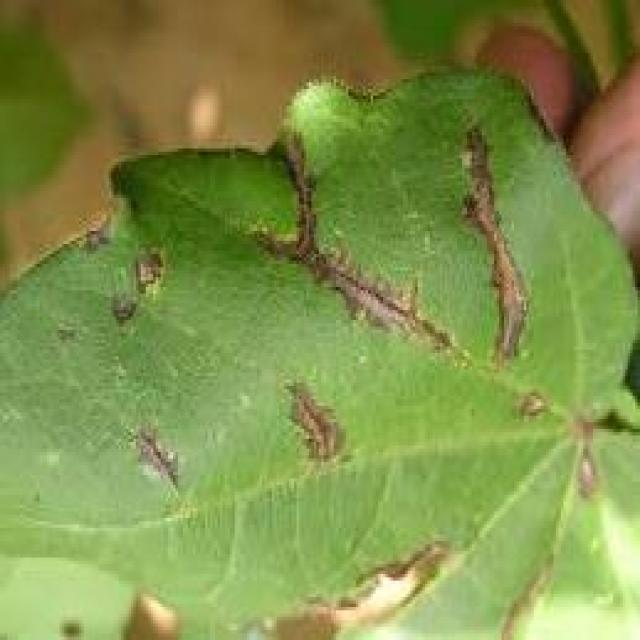Bacterial Blight: (255, 130, 553, 409)
